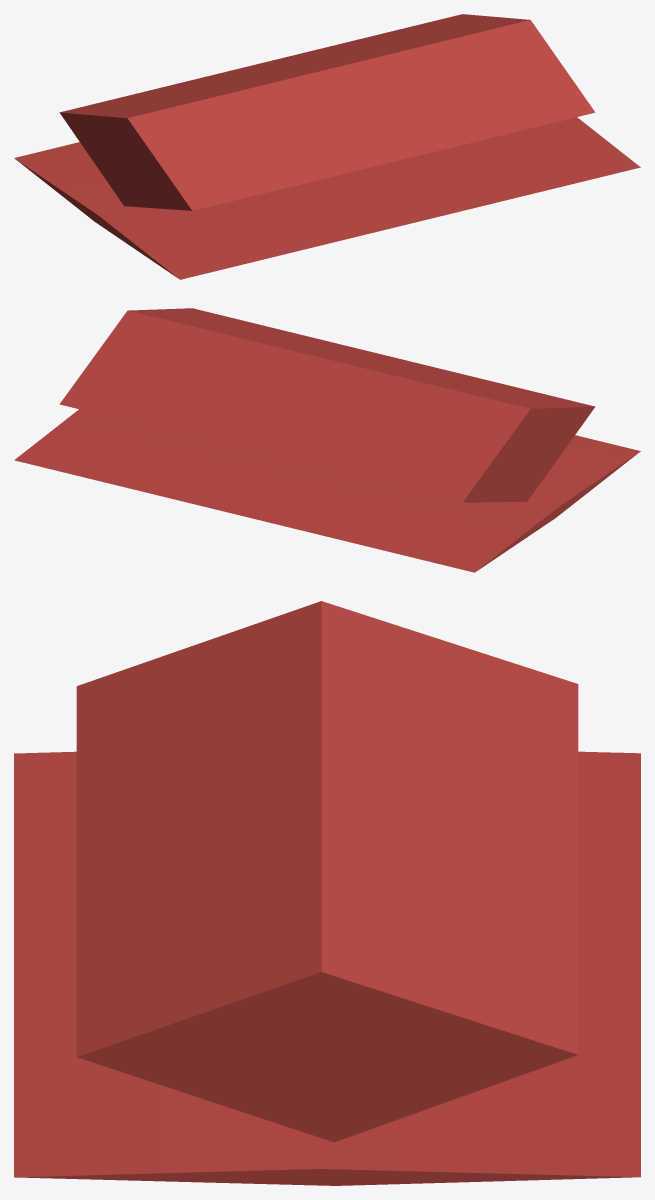
Rendered from bash_box_lod2.glb.
The picture shows the model from 3 angles, top to bottom: view 1: azimuth 30°, elevation 25°; view 2: azimuth 150°, elevation 25°; view 3: azimuth 270°, elevation 25°; orthographic projection. The views are drawn at different scales.
Parts seen in each view (by area): view 1: bash_box_lod2; view 2: bash_box_lod2; view 3: bash_box_lod2.
Boxes of the visible parts, x1,y1,x2,y2 form: bash_box_lod2: (14,14,640,279); bash_box_lod2: (14,308,640,572); bash_box_lod2: (14,601,640,1185).
Size of the model in its own units: 0.32 by 0.066 by 0.2.
